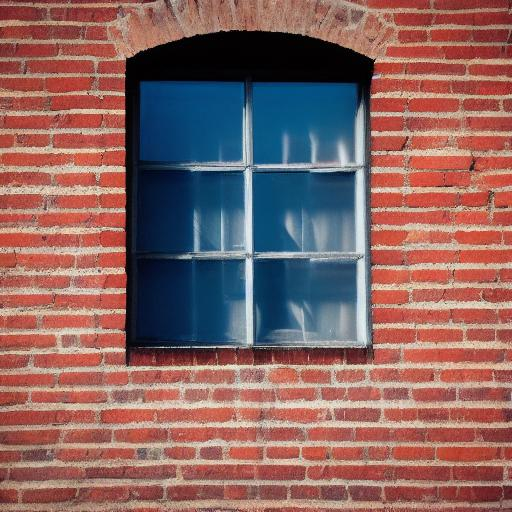Window: (108, 1, 398, 368)
